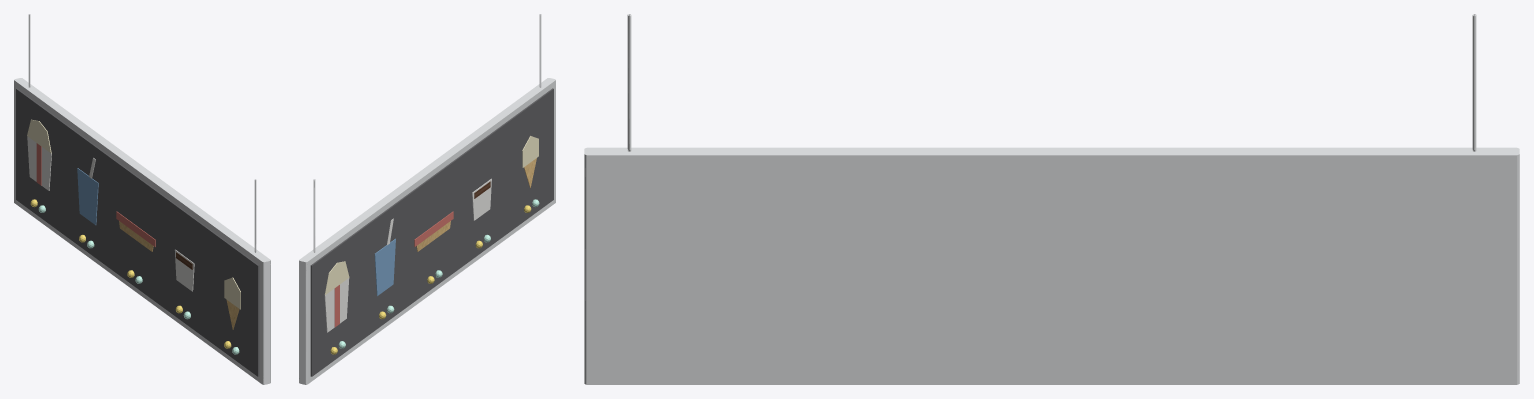
Rendered from menu_board.glb.
The picture shows the model from 3 angles, left to right: view 1: azimuth 30°, elevation 25°; view 2: azimuth 150°, elevation 25°; view 3: azimuth 270°, elevation 25°; orthographic projection. The views are drawn at different scales.
Parts seen in each view (by area): view 1: menu_board_dark, menu_board_chrome, menu_board_paint_w, menu_board_soda_b, menu_board_pop, menu_board_tile_r, menu_board_sand, menu_board_neon, menu_board_yellowp; view 2: menu_board_dark, menu_board_chrome, menu_board_paint_w, menu_board_soda_b, menu_board_pop, menu_board_tile_r, menu_board_sand, menu_board_neon, menu_board_yellowp; view 3: menu_board_chrome.
Part boxes in pixels (x1,y1,x2,y2): menu_board_dark: [16, 88, 259, 376]; menu_board_chrome: [14, 14, 270, 384]; menu_board_paint_w: [27, 136, 194, 291]; menu_board_soda_b: [77, 168, 98, 225]; menu_board_pop: [27, 119, 240, 309]; menu_board_tile_r: [36, 143, 155, 246]; menu_board_sand: [119, 221, 239, 329]; menu_board_neon: [38, 205, 239, 354]; menu_board_yellowp: [30, 199, 231, 348]; menu_board_dark: [310, 88, 553, 376]; menu_board_chrome: [299, 14, 555, 384]; menu_board_paint_w: [324, 178, 491, 332]; menu_board_soda_b: [374, 238, 395, 295]; menu_board_pop: [325, 136, 538, 294]; menu_board_tile_r: [334, 211, 453, 327]; menu_board_sand: [416, 158, 536, 251]; menu_board_neon: [338, 199, 539, 348]; menu_board_yellowp: [330, 205, 531, 354]; menu_board_chrome: [584, 14, 1519, 384].
Size of the model in its own units: 0.107 by 1.34 by 3.1.
Materials: 10 (2 with a texture image).
